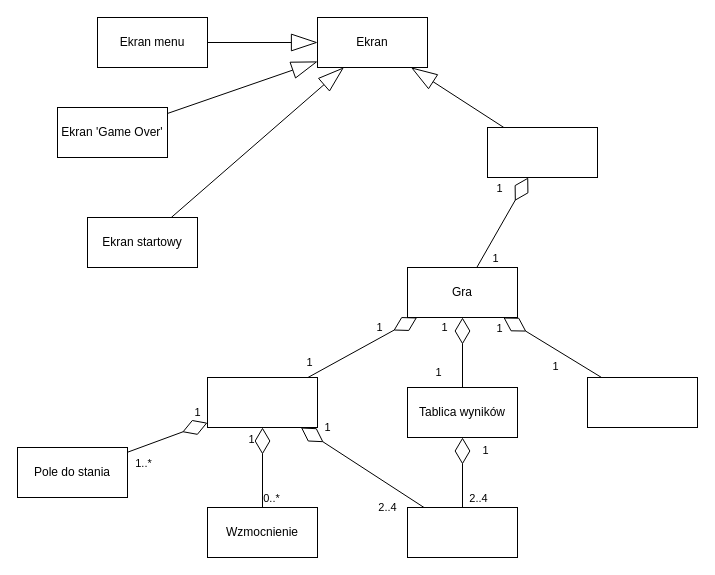
Image size: 715x575. Some labels were removed from this diagram. Here are the shapes that lost their labels. From the top down, the centre of each, then its label:
At [542,152]: "Ekran gry".
At [262,402]: "Plansza".
At [642,402]: "Zegar".
At [462,532]: "Gracz".
